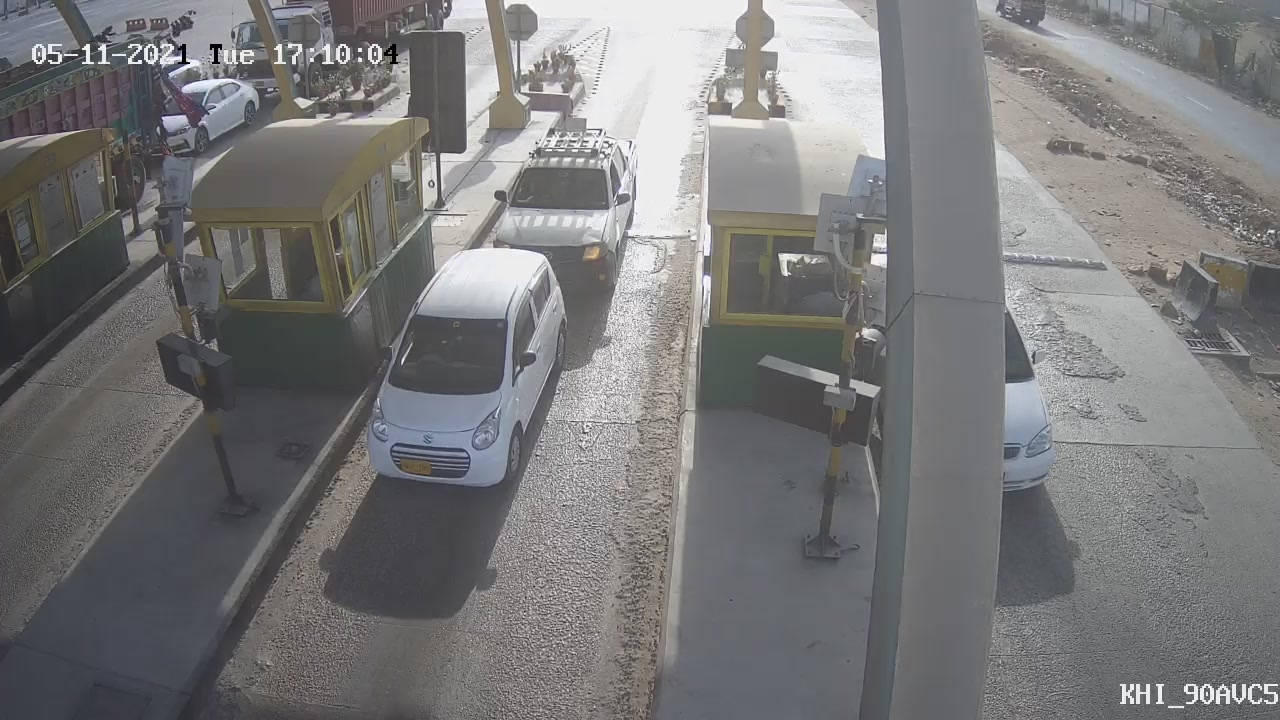F1: (343, 231, 592, 508), (474, 103, 650, 312)
